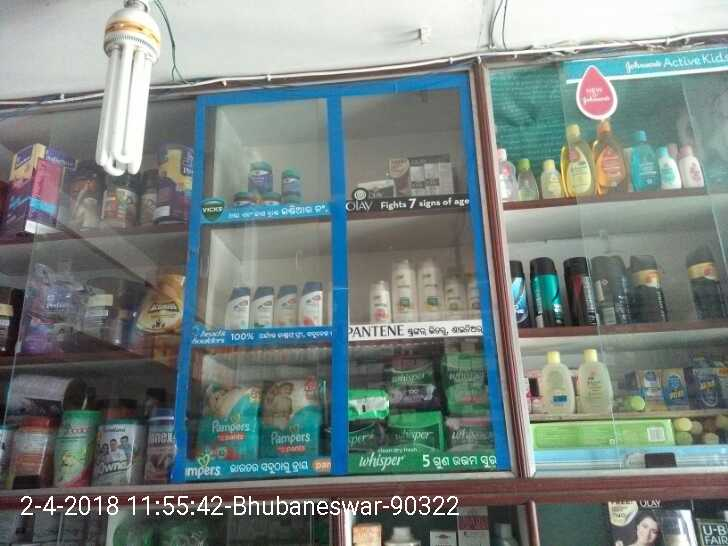vicks: (249, 161, 273, 190), (282, 170, 301, 193), (235, 194, 255, 207), (262, 193, 280, 205)
